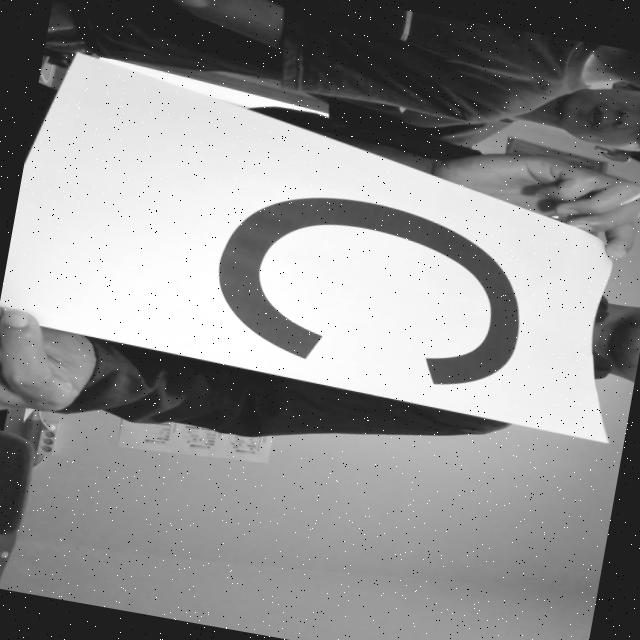c: (160, 154, 562, 408)
